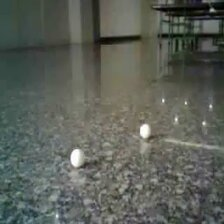w: (69, 148, 85, 169), (139, 123, 151, 138)
